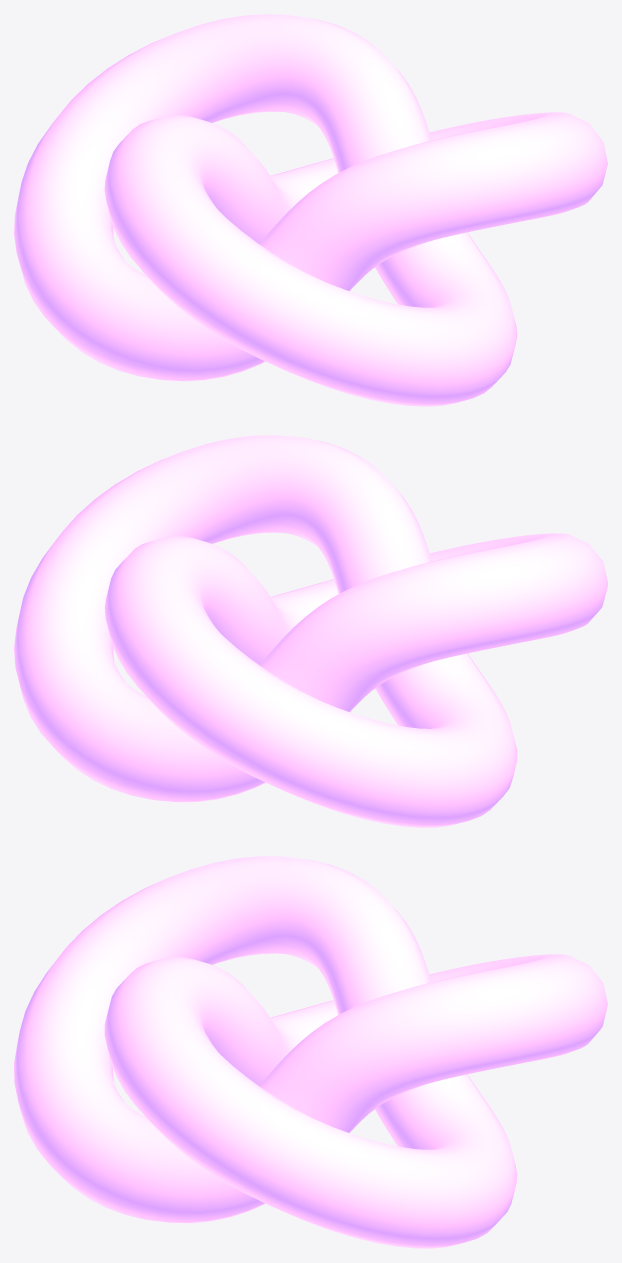
Rendered from knot.gltf.
3 renders of one model, top to bottom at view 1: azimuth 30°, elevation 25°; view 2: azimuth 150°, elevation 25°; view 3: azimuth 270°, elevation 25°, orthographic.
Parts seen in each view (by area): view 1: knot; view 2: knot; view 3: knot.
Boxes of the visible parts, <box> form: knot: <box>14,14,607,406</box>; knot: <box>14,435,607,827</box>; knot: <box>14,856,607,1248</box>.
Bounding box in the file's own units: 0.1262 × 0.0574 × 0.1315.
